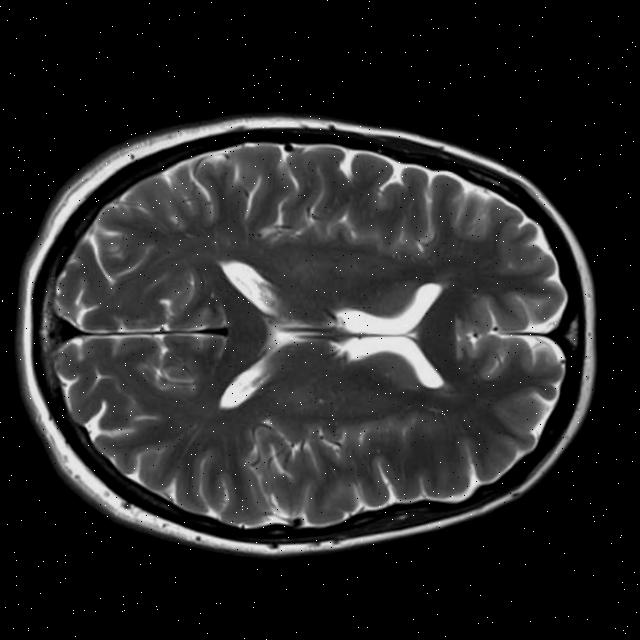NoTumor: (35, 109, 585, 558)
